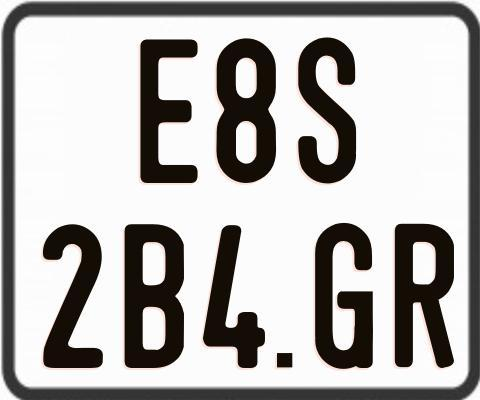2: (42, 224, 104, 372)
4: (202, 222, 264, 369)
8: (215, 36, 275, 187)
B: (123, 221, 182, 369)
E: (140, 38, 202, 184)
G: (313, 222, 372, 371)
R: (392, 223, 451, 371)
S: (298, 35, 356, 186)
